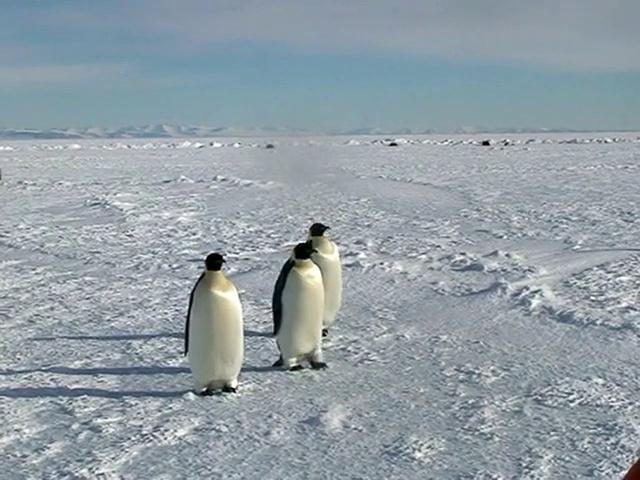animal: (310, 224, 342, 337)
